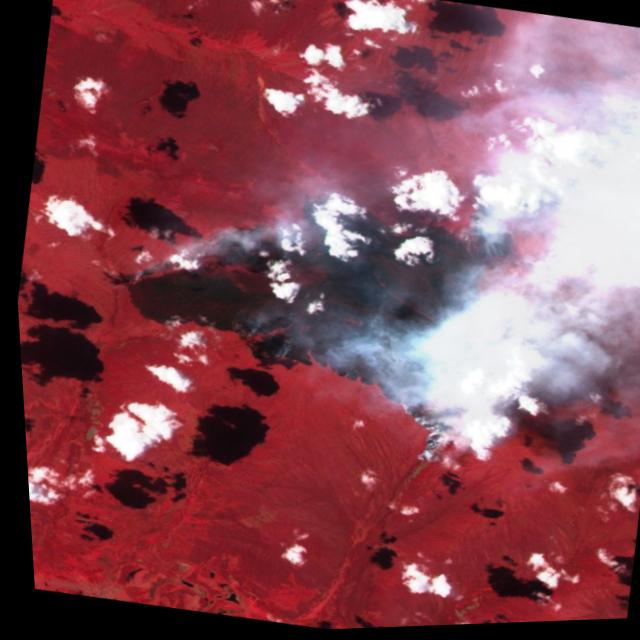fire: (99, 202, 255, 317), (424, 172, 532, 284), (373, 383, 470, 473), (213, 309, 296, 376)
